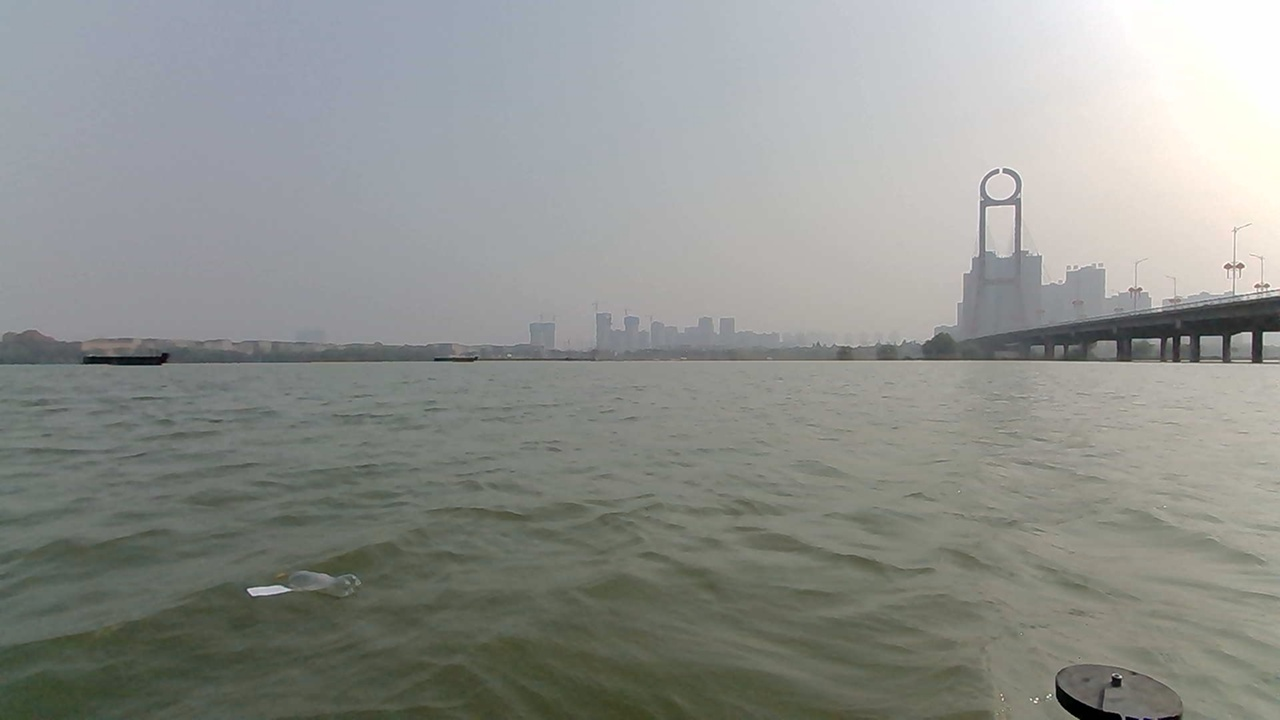bottle: (218, 560, 360, 624)
